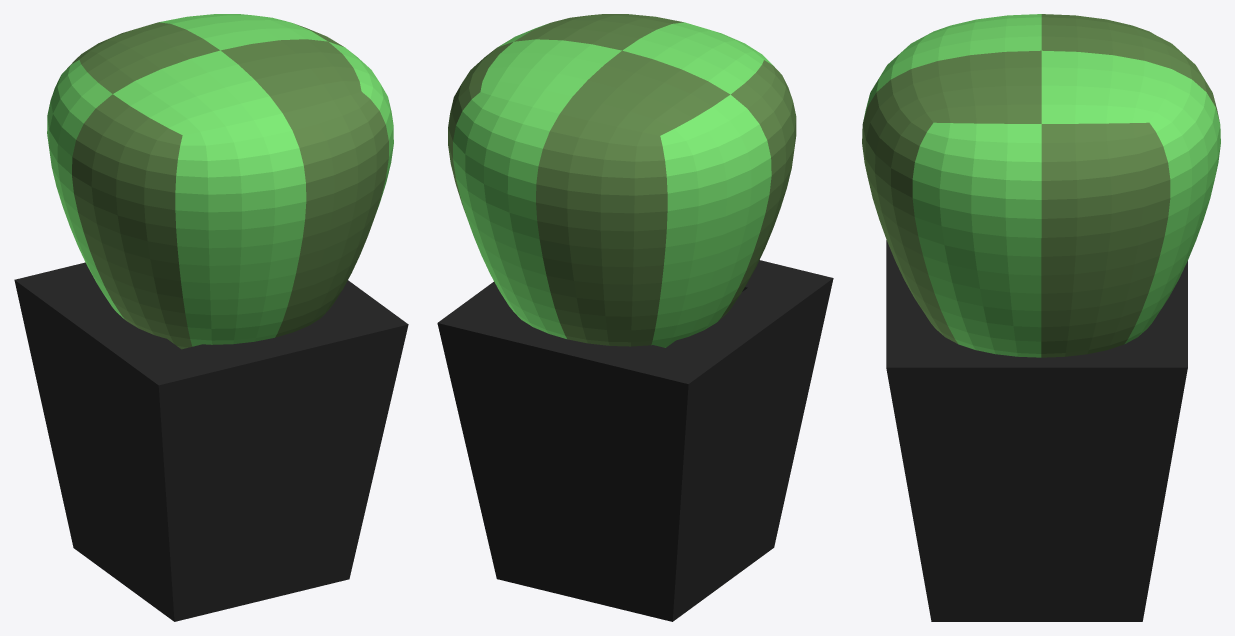
File: Plant.fbx
3 views of the same model, side by side, from view 1: azimuth 30°, elevation 25°; view 2: azimuth 150°, elevation 25°; view 3: azimuth 270°, elevation 25° (orthographic). The views are drawn at different scales.
Parts seen in each view (by area): view 1: Cube.020, Cube.021; view 2: Cube.021, Cube.020; view 3: Cube.021, Cube.020.
Boxes of the visible parts, left/top/right/bottom form: Cube.020: left=14, top=262, right=408, bottom=621; Cube.021: left=47, top=14, right=393, bottom=349; Cube.021: left=448, top=14, right=796, bottom=347; Cube.020: left=437, top=260, right=833, bottom=621; Cube.021: left=862, top=14, right=1220, bottom=357; Cube.020: left=886, top=240, right=1187, bottom=621.
Size of the model in its own units: 128 by 210 by 128.
